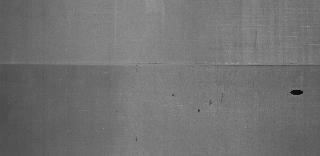punching hole: (286, 87, 308, 97)
welding line: (2, 61, 320, 69)
